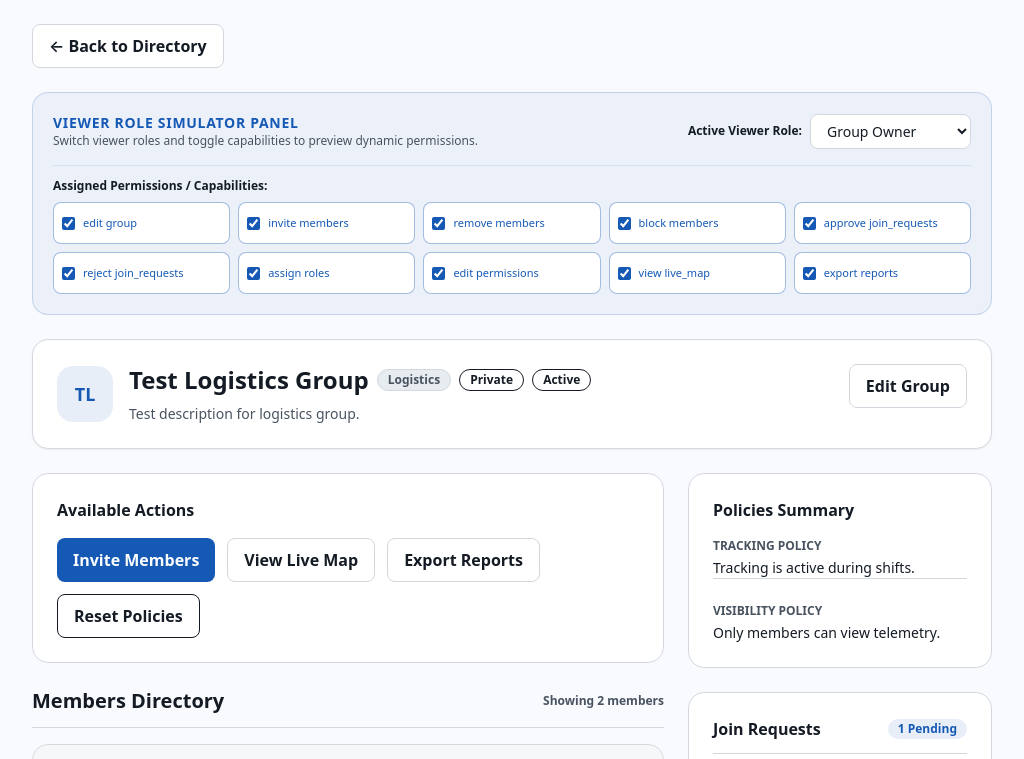
Scenario: GroupDetailsPage › restricts Moderator from assigning roles, exporting reports or resetting policies
This screenshot has width=1024, height=759.
// Select Moderator role in simulator
Select "Moderator" in the dropdown labelled "Active Viewer Role:" at (890, 131), box left=810, top=114, right=971, bottom=148
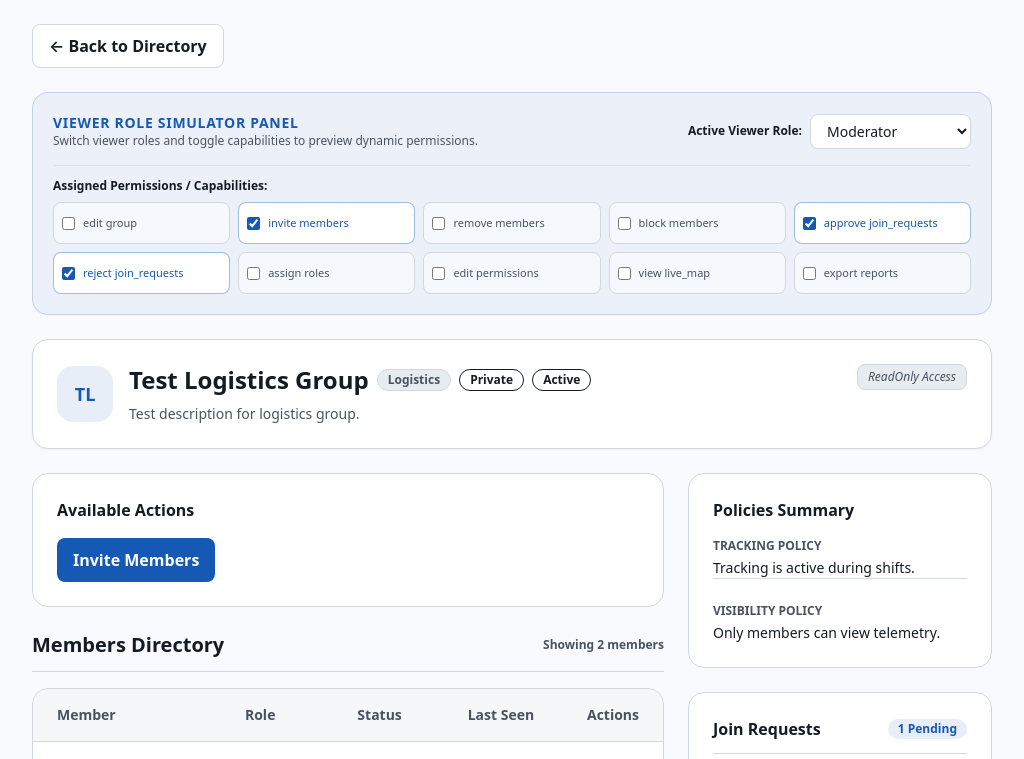
Check: the button with aria-label "Invite new members" is shown, box left=57, top=538, right=215, bottom=582
Check: the text "ReadOnly Access" is shown, box left=857, top=364, right=967, bottom=390
